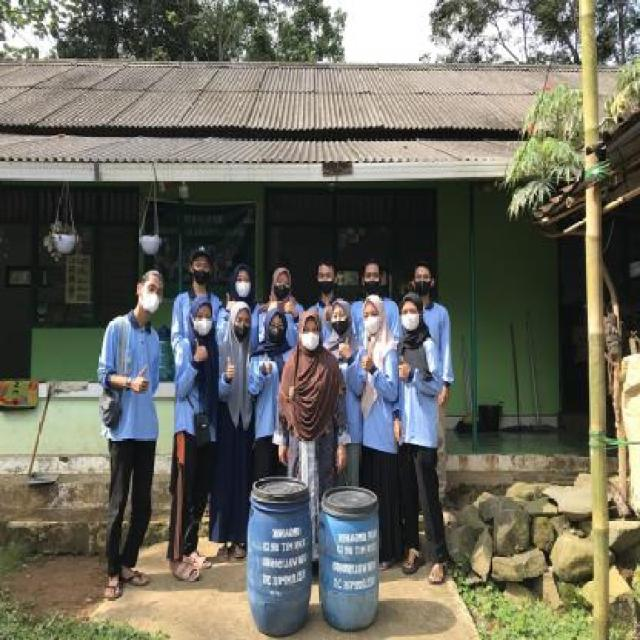garbage container: (243, 471, 312, 635), (318, 485, 380, 637)
